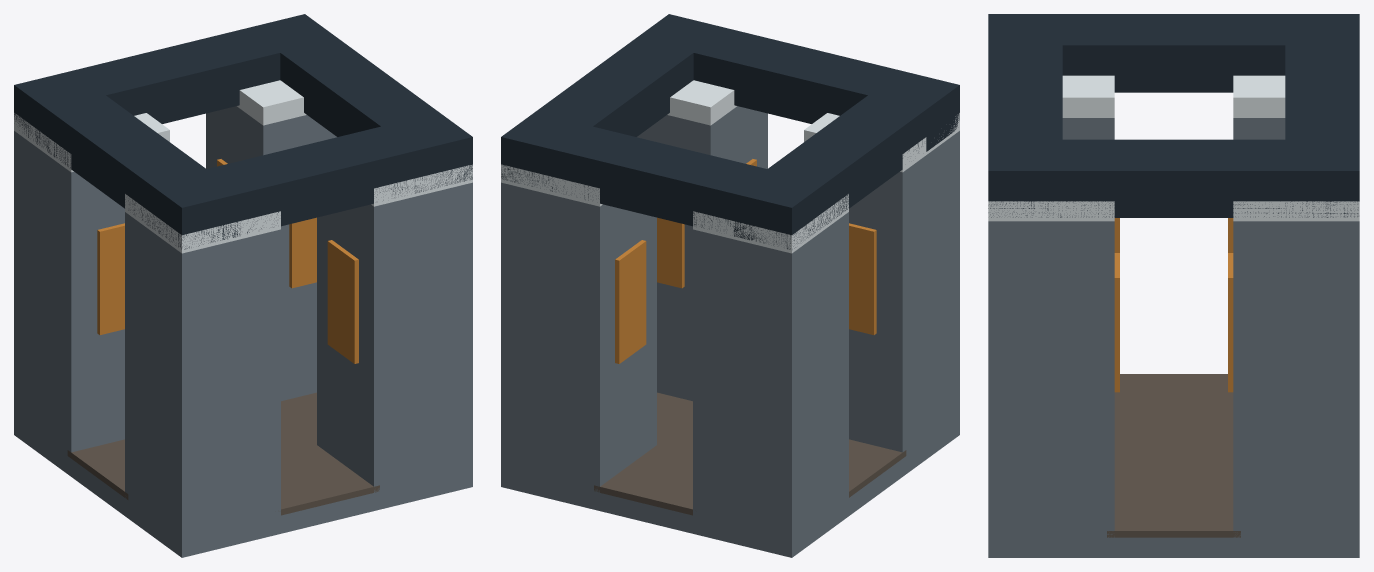
The model's file is gate.glb.
The picture shows the model from 3 angles, left to right: view 1: azimuth 30°, elevation 25°; view 2: azimuth 150°, elevation 25°; view 3: azimuth 270°, elevation 25°; orthographic projection. The views are drawn at different scales.
Parts seen in each view (by area): view 1: gate; view 2: gate; view 3: gate.
Part boxes in pixels (x1,y1,x2,y2): gate: (14, 14, 472, 557); gate: (501, 14, 959, 557); gate: (988, 14, 1359, 557).
Size of the model in its own units: 1 by 1.15 by 1.
1 material, 1 textured.
